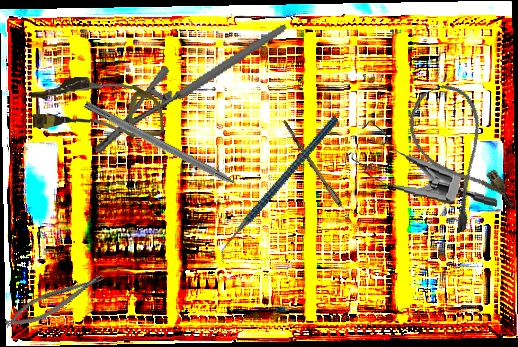Cannula: (398, 76, 518, 236), (29, 71, 165, 145)
Chopper: (186, 115, 373, 265)
Hook Surgical: (82, 100, 256, 199)
Needle Holder: (75, 23, 306, 157), (0, 269, 110, 334)
Speculum: (341, 118, 504, 209)
Surgical Spoon: (279, 119, 365, 237)
